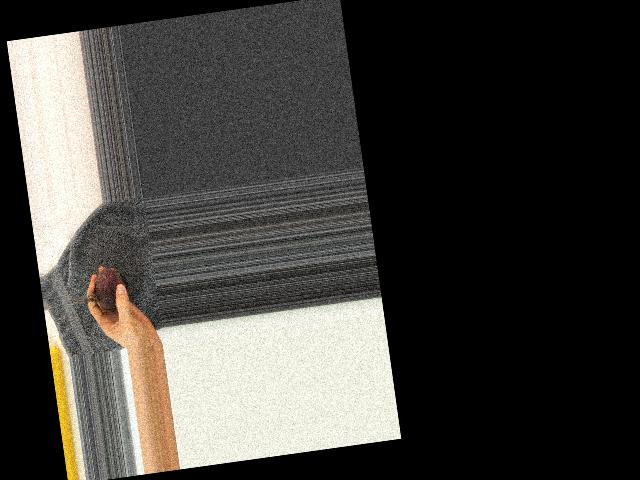beet: (65, 265, 131, 314)
